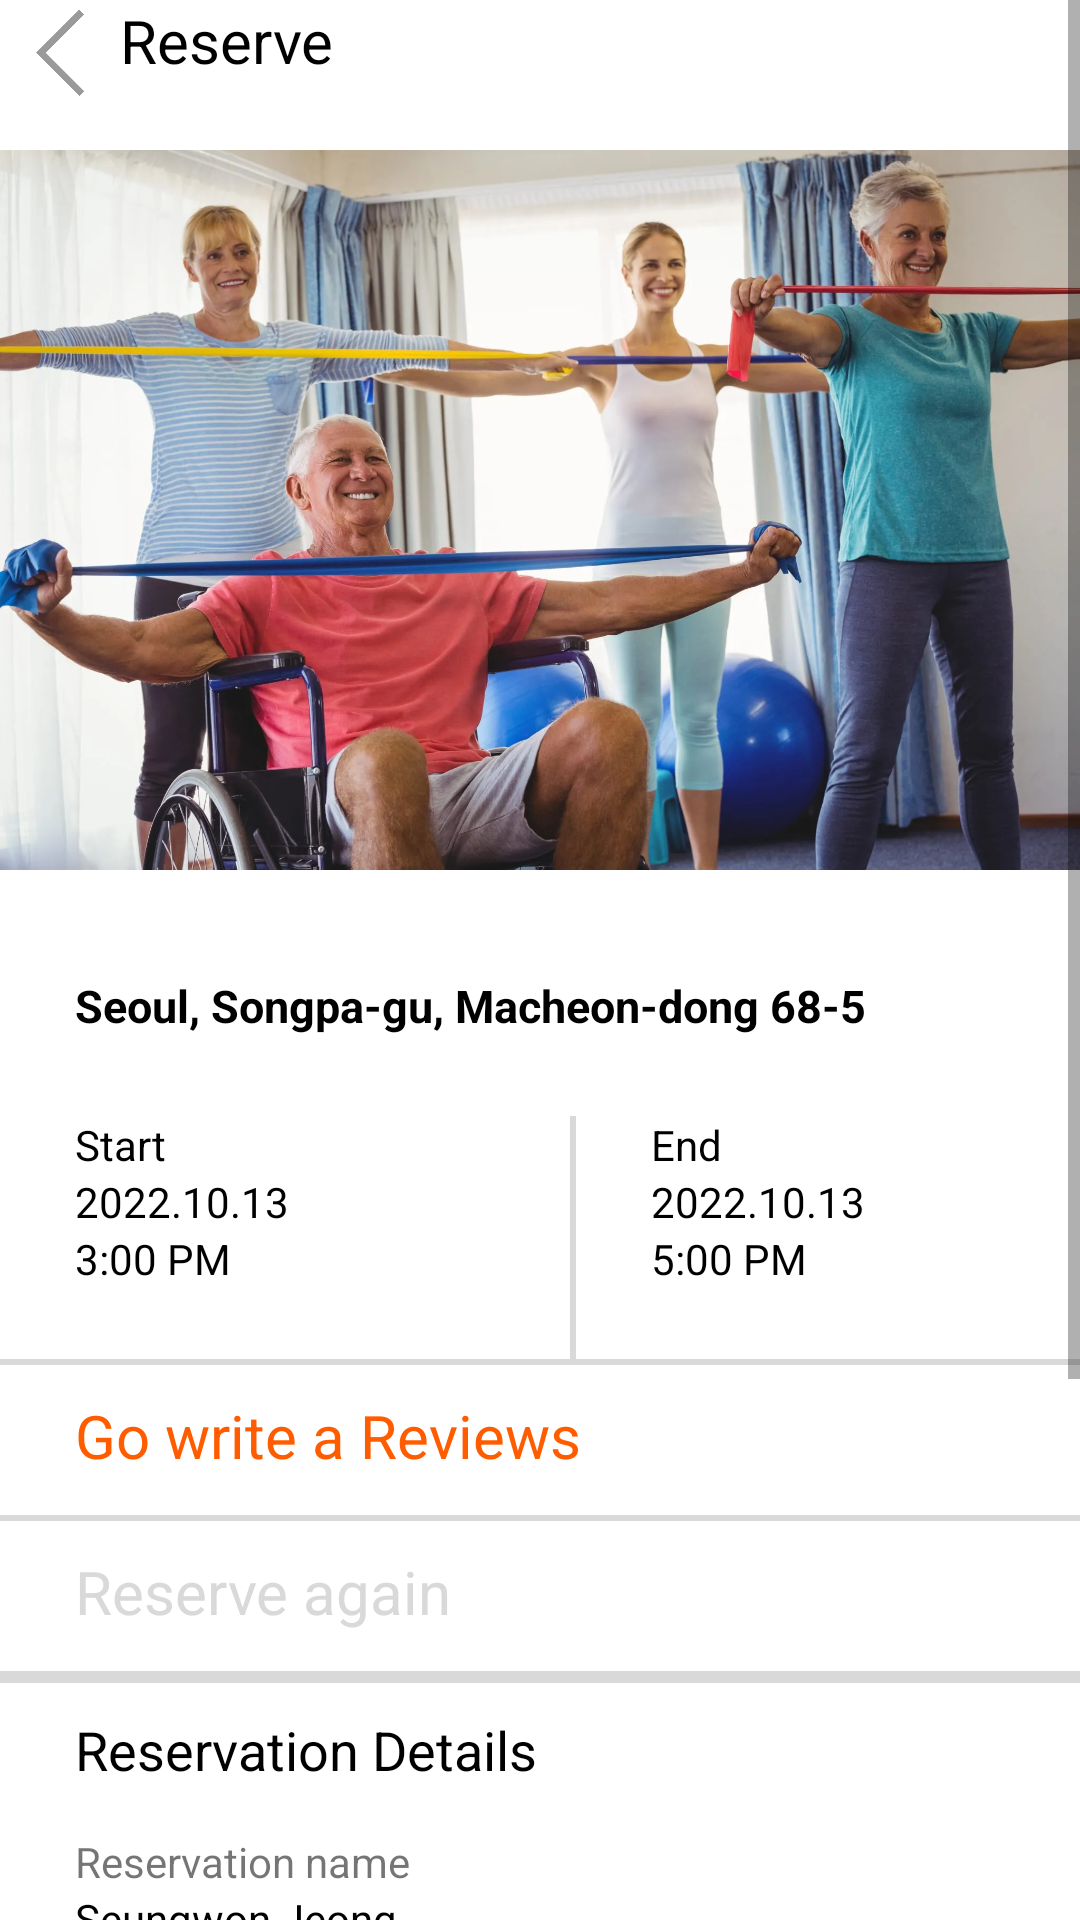

Screen size 1080×1920. Icon name, then its box in pixels as (x1,y1,x2,y2):
prebutton: (36,10,84,96)
